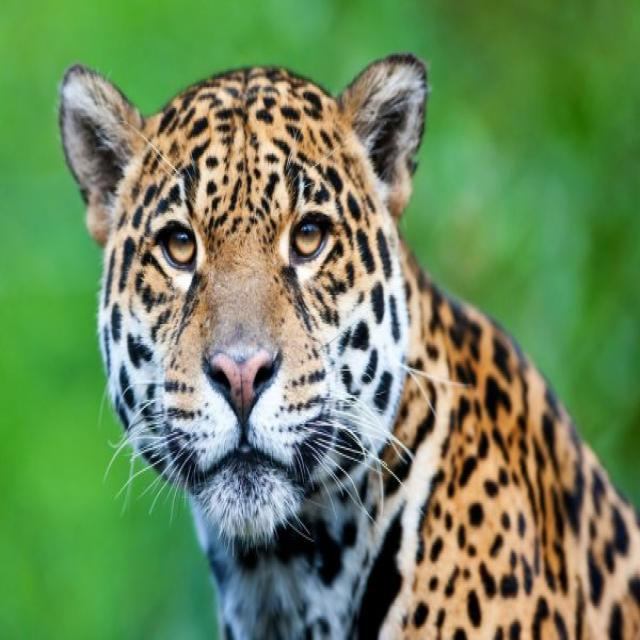Jaguar: (53, 59, 639, 640)
